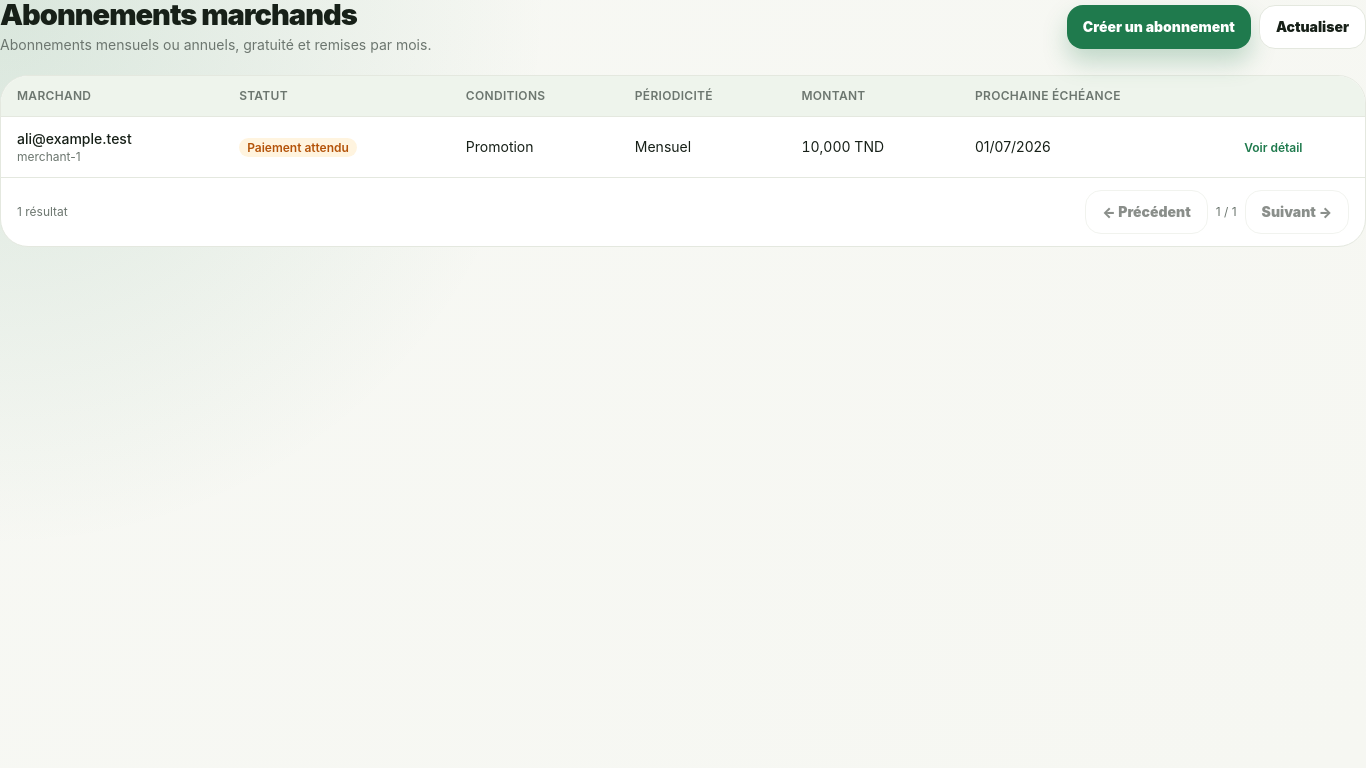
Scenario: AdminSubscriptionsPage › selects a merchant before showing the subscription creation form
Click the button "Créer un abonnement" at [1159, 27], box [1067,5,1251,49]
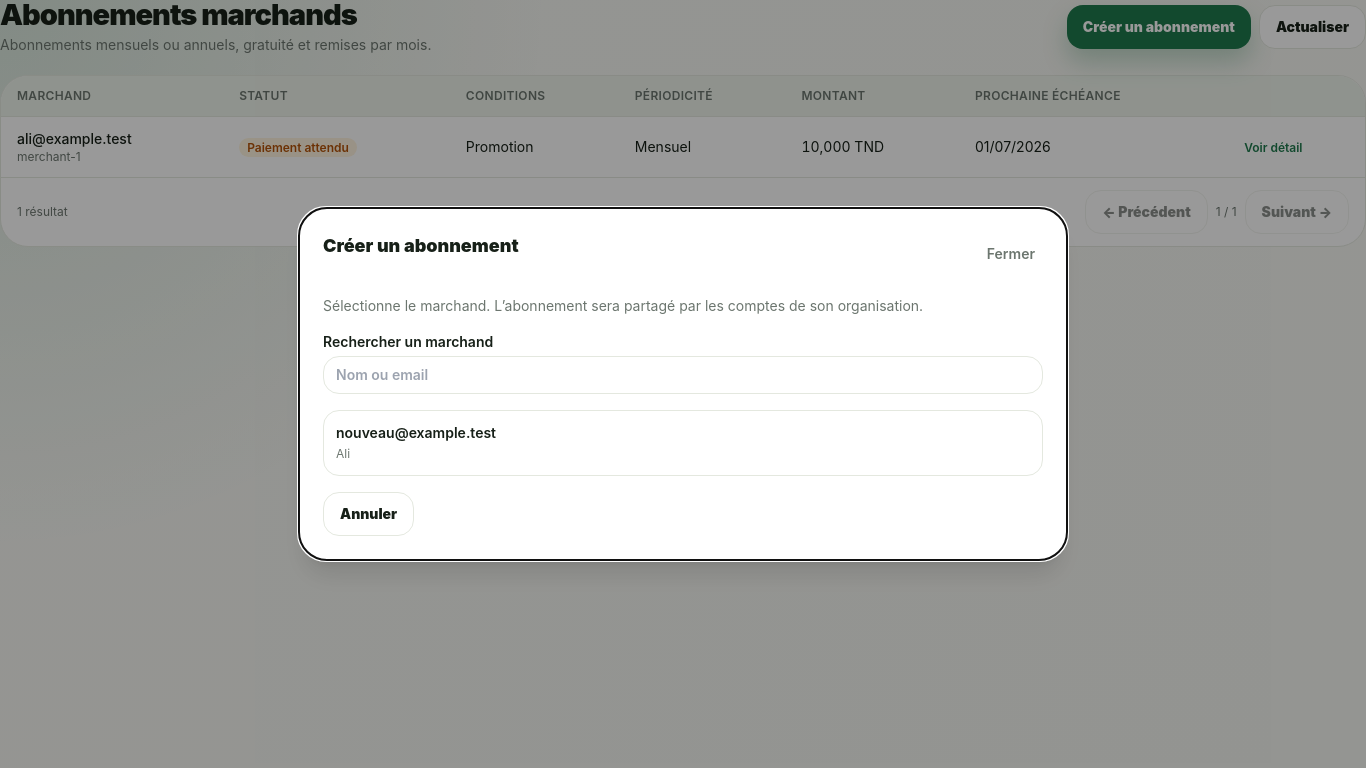
Click the button "nouveau@example.test Ali" at [416, 432], box [324,411,1042,475]
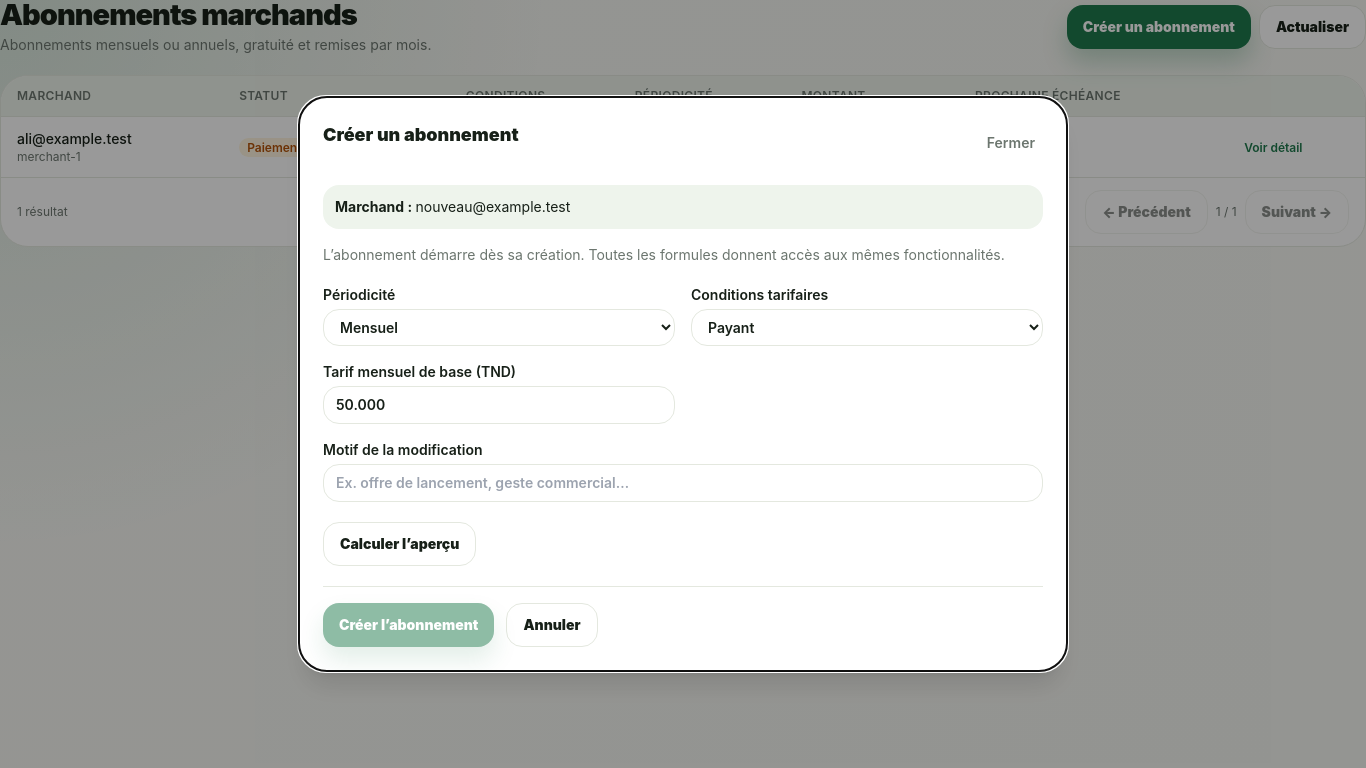
Expected: the dropdown labelled "Conditions tarifaires" is shown, [691,309,1043,346]
Expected: the button "Créer l’abonnement" is disabled, [323,603,494,647]
